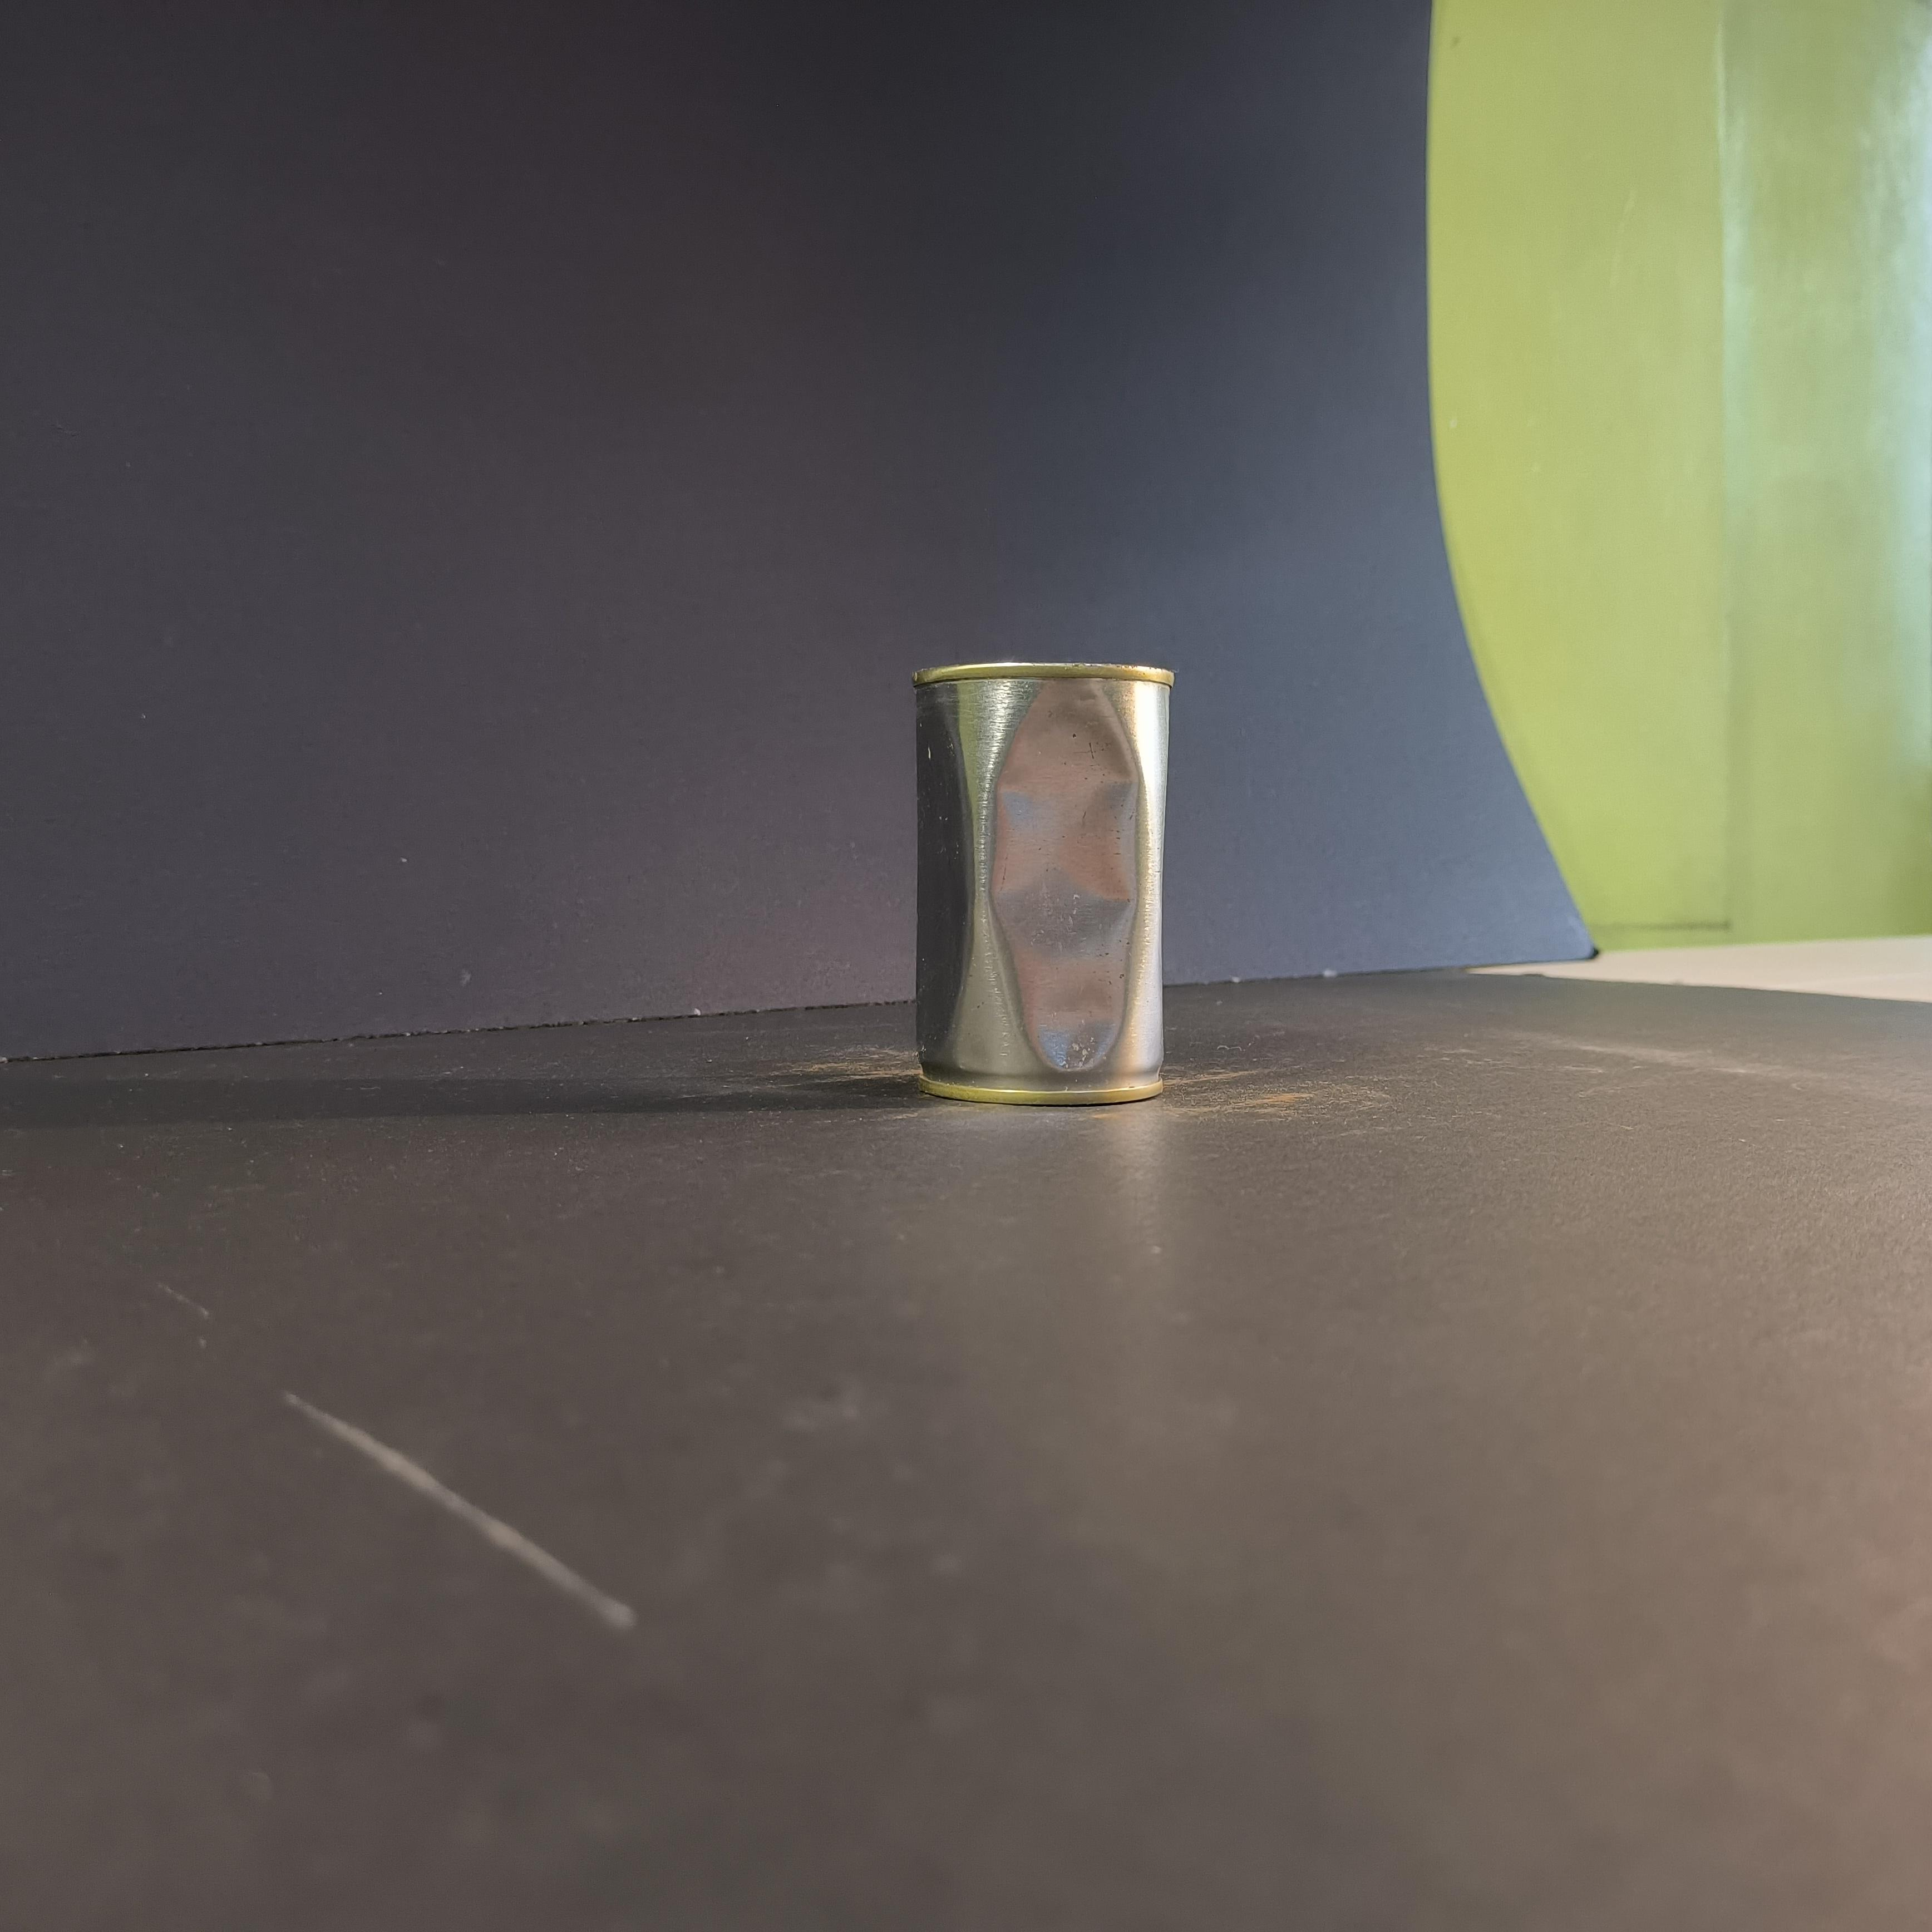Dented: (888, 642, 1187, 1116)
